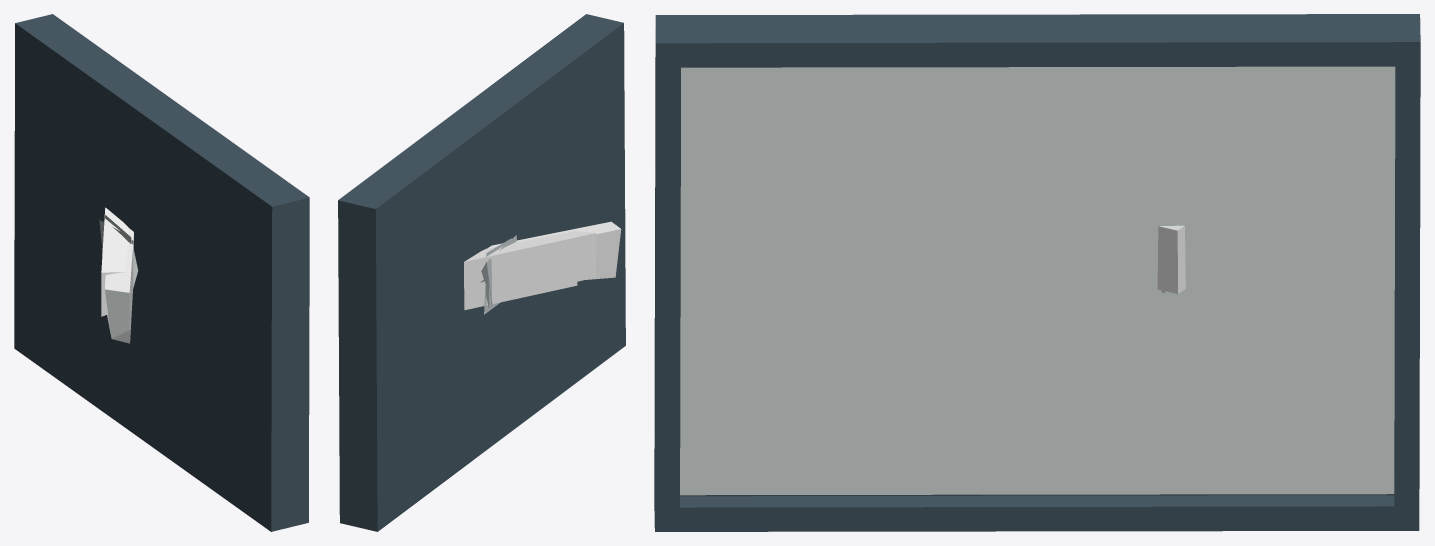
File: big photo frame.fbx
The picture shows the model from 3 angles, left to right: view 1: azimuth 30°, elevation 25°; view 2: azimuth 150°, elevation 25°; view 3: azimuth 270°, elevation 25°; orthographic projection. The views are drawn at different scales.
Visible parts, largest first — view 1: group866374169.002_cell.008, group866374169.002_cell.009, group866374169.002_cell.006, group866374169.002_cell.010, group866374169.002_cell.007, group866374169.002_cell.002, group866374169.002_cell.004; view 2: group866374169.002_cell.009, group866374169.002_cell.010, group866374169.002_cell.002, group866374169.002_cell.008, group866374169.002_cell.006, group866374169.002_cell.007, group866374169.002_cell.004; view 3: group866374169.002_cell.008, group866374169.002_cell.009, group866374169.002_cell.010, group866374169.002_cell.007, group866374169.002_cell.006, group866374169.002_cell.002, group866374169.002_cell.005.
Boxes of the visible parts, <box> form: group866374169.002_cell.008: <box>142,278,309,531</box>; group866374169.002_cell.009: <box>14,51,190,304</box>; group866374169.002_cell.006: <box>190,139,309,361</box>; group866374169.002_cell.010: <box>14,246,154,448</box>; group866374169.002_cell.007: <box>105,109,309,383</box>; group866374169.002_cell.002: <box>14,14,104,207</box>; group866374169.002_cell.004: <box>101,207,128,316</box>; group866374169.002_cell.009: <box>339,104,620,429</box>; group866374169.002_cell.010: <box>339,302,513,531</box>; group866374169.002_cell.002: <box>338,162,438,353</box>; group866374169.002_cell.008: <box>501,199,625,429</box>; group866374169.002_cell.006: <box>508,14,624,177</box>; group866374169.002_cell.007: <box>467,73,624,279</box>; group866374169.002_cell.004: <box>464,231,596,309</box>; group866374169.002_cell.008: <box>654,214,1097,531</box>; group866374169.002_cell.009: <box>1024,14,1419,376</box>; group866374169.002_cell.010: <box>1000,330,1419,531</box>; group866374169.002_cell.007: <box>655,14,1097,335</box>; group866374169.002_cell.006: <box>655,14,897,275</box>; group866374169.002_cell.002: <box>1221,14,1420,260</box>; group866374169.002_cell.005: <box>1157,225,1185,293</box>.
Bounding box in the file's own units: 4.52 × 11.71 × 16.54.
